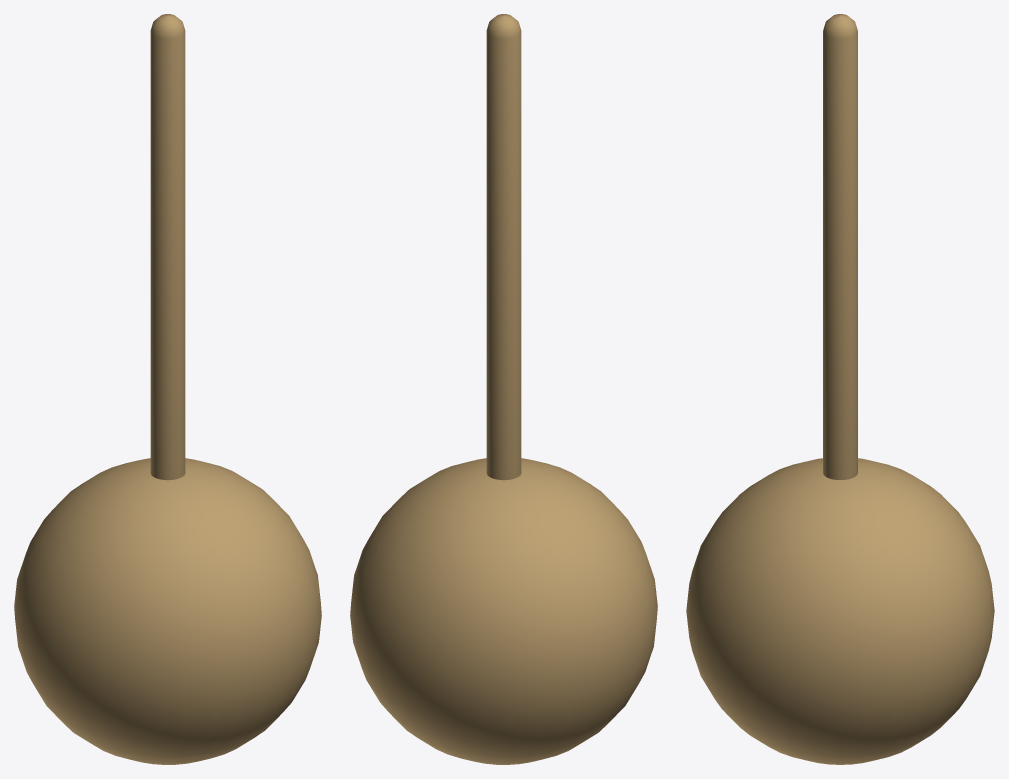
The model's file is SM_Court_Pendulum.fbx.
3 views of the same model, side by side, from view 1: azimuth 30°, elevation 25°; view 2: azimuth 150°, elevation 25°; view 3: azimuth 270°, elevation 25° (orthographic).
Visible parts, largest first — view 1: SM_Court_Pendulum; view 2: SM_Court_Pendulum; view 3: SM_Court_Pendulum.
Boxes of the visible parts, x1,y1,x2,y2 form: SM_Court_Pendulum: (14, 14, 321, 764); SM_Court_Pendulum: (350, 14, 657, 764); SM_Court_Pendulum: (686, 14, 994, 764).
Bounding box in the file's own units: 23 × 23 × 60.5.
